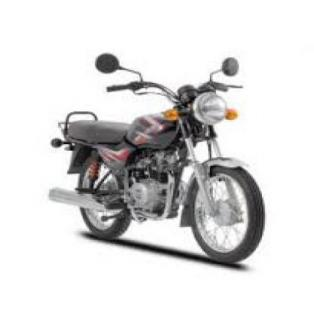Motocicleta: (39, 41, 271, 275)
